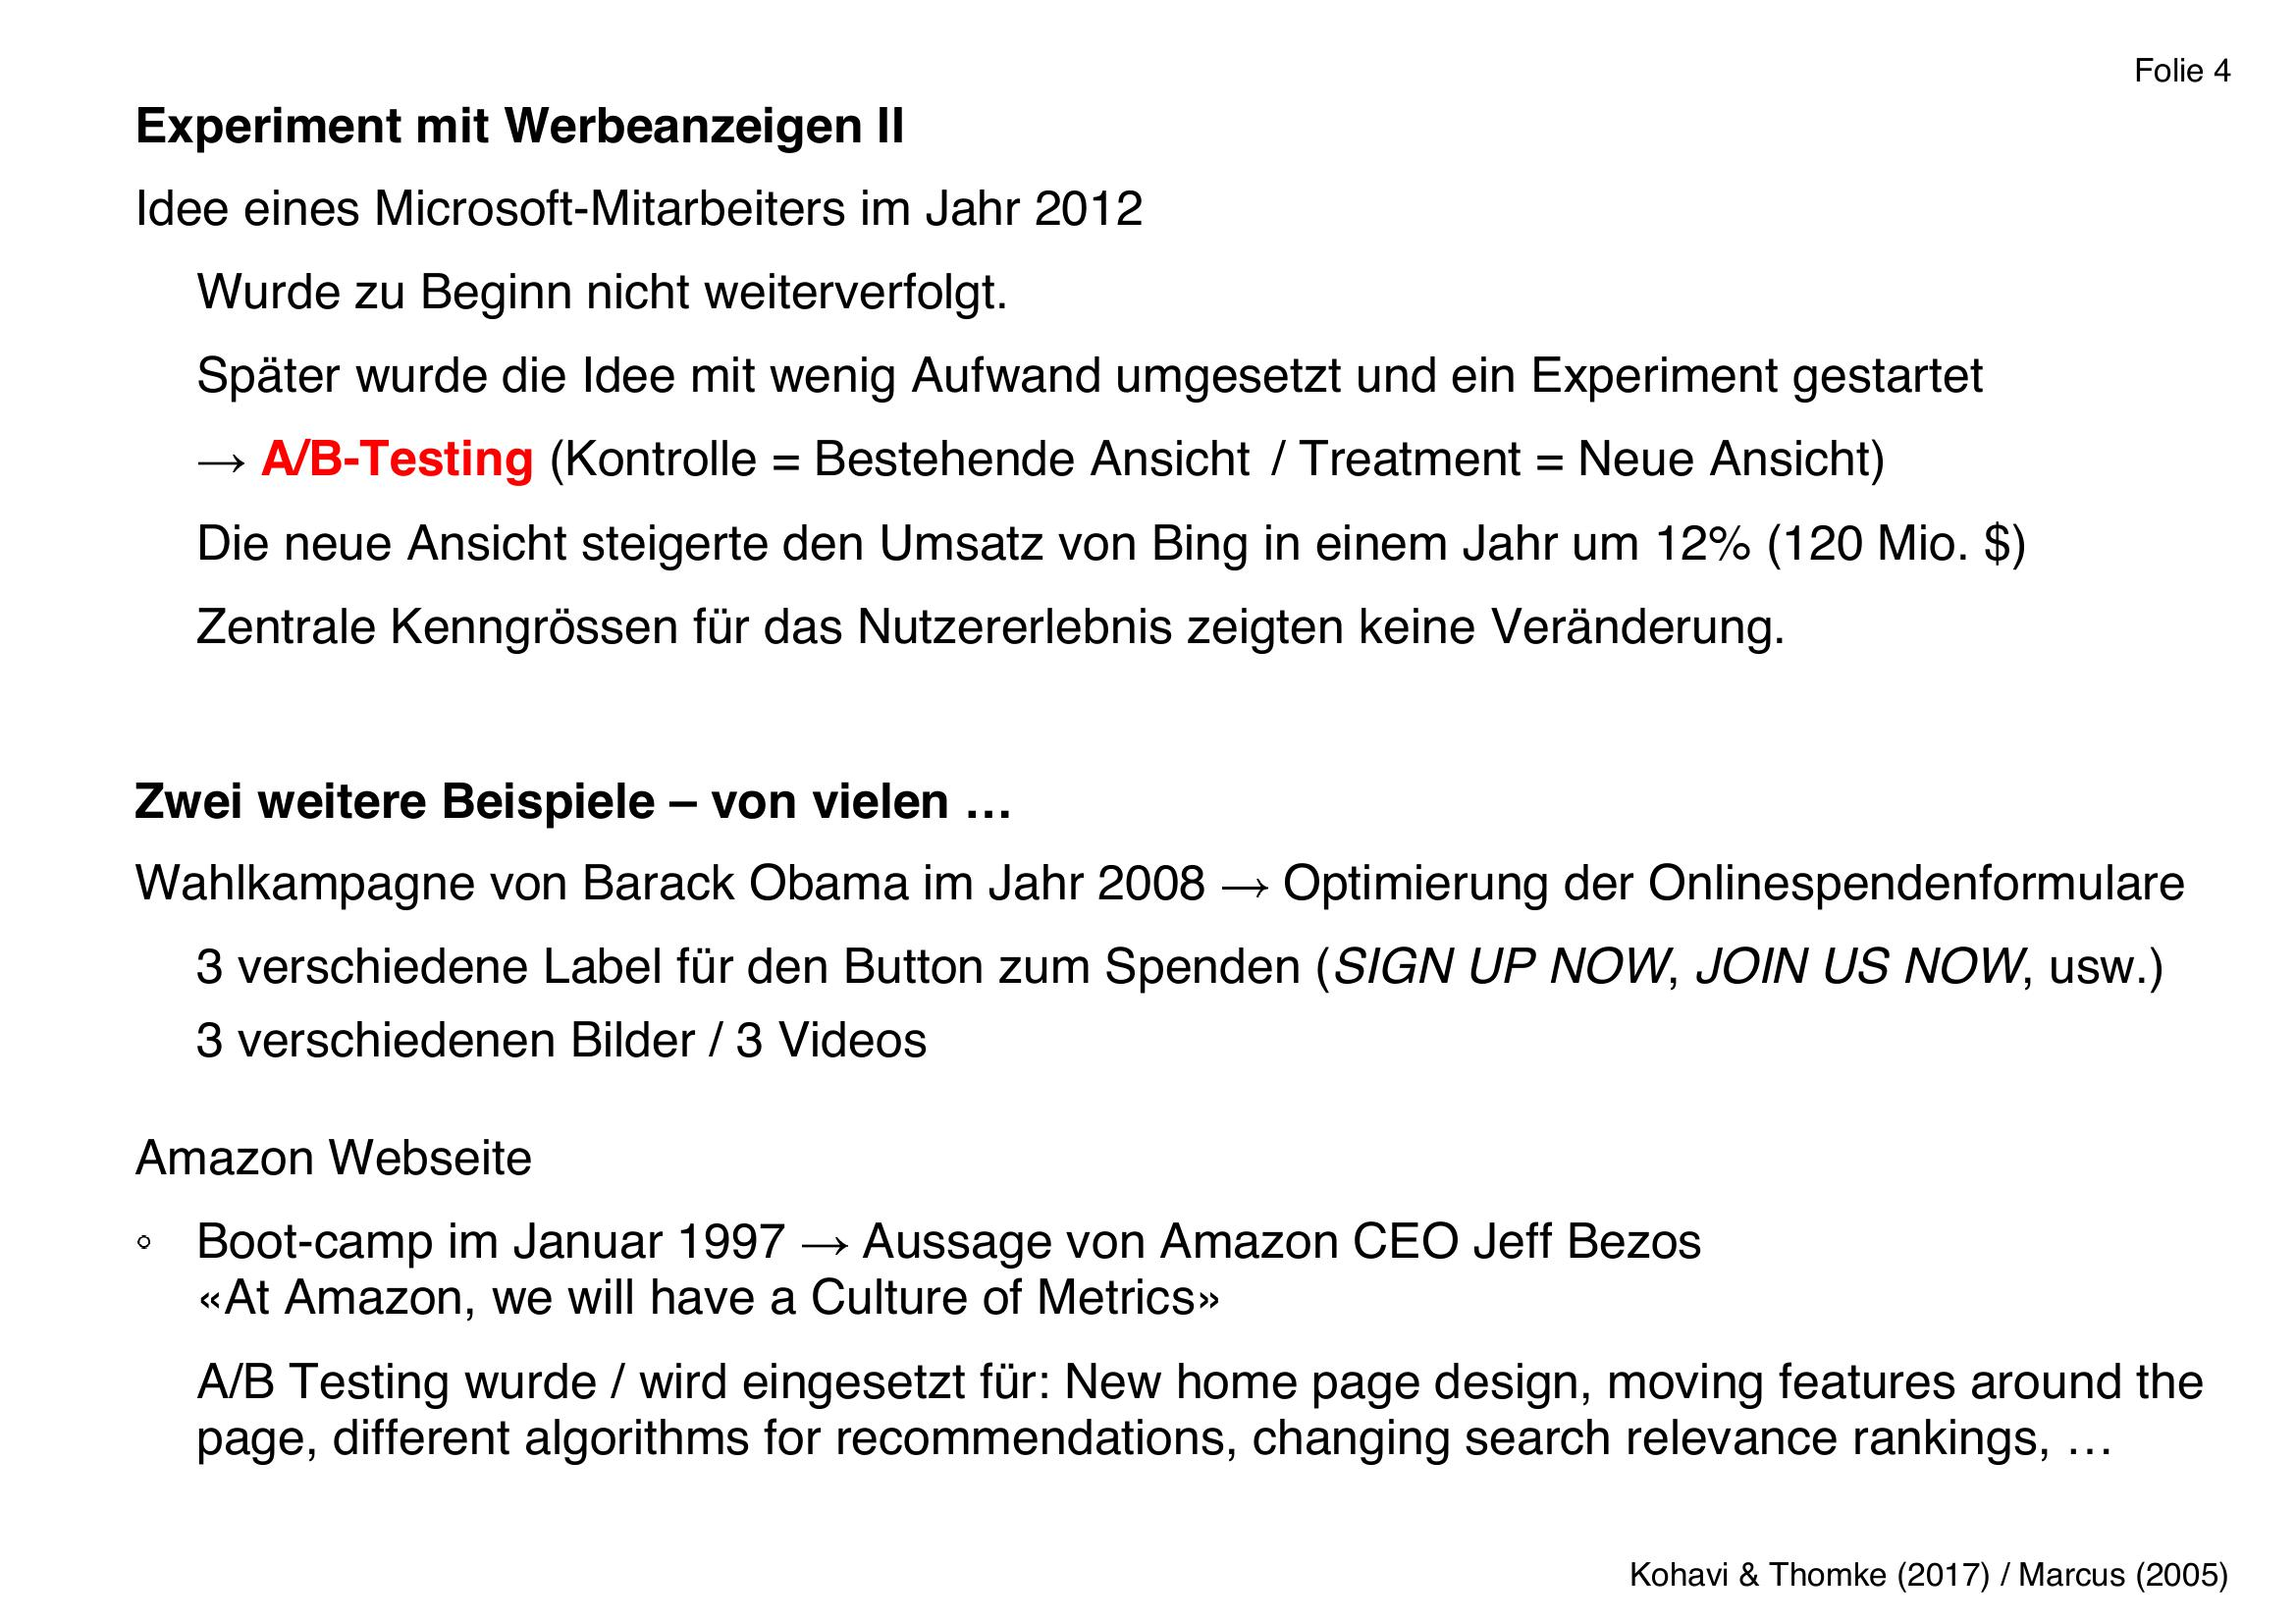Title: (126, 98, 922, 160)
